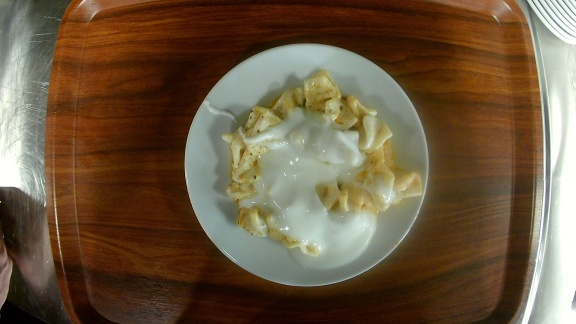manti: (183, 42, 431, 287)
